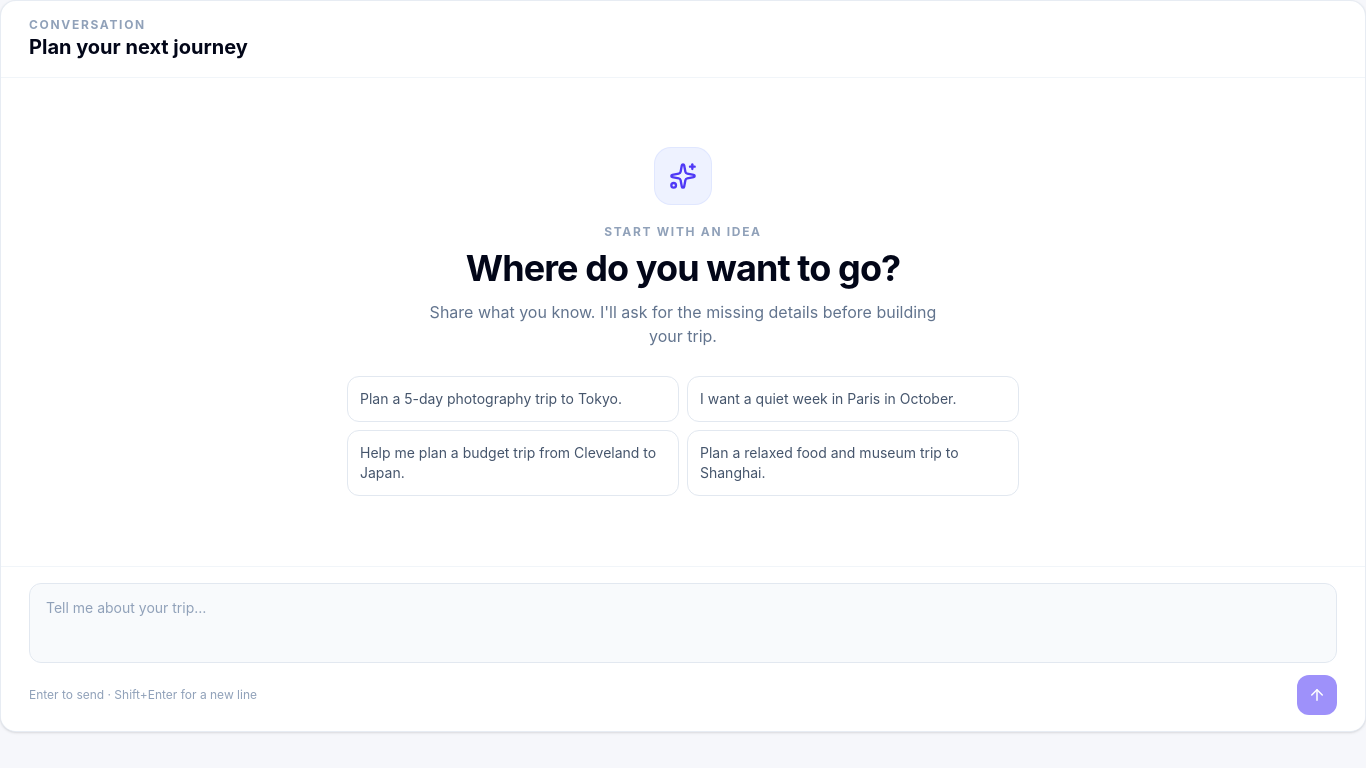
ChatPanel › shows welcome prompts and fills without auto-sending
Check: the heading "Where do you want to go?" is shown, box top-left (466, 248), bottom-right (900, 288)
Click the button "Plan a 5-day photography trip to Tokyo.": (513, 399) top-left (347, 376), bottom-right (679, 422)
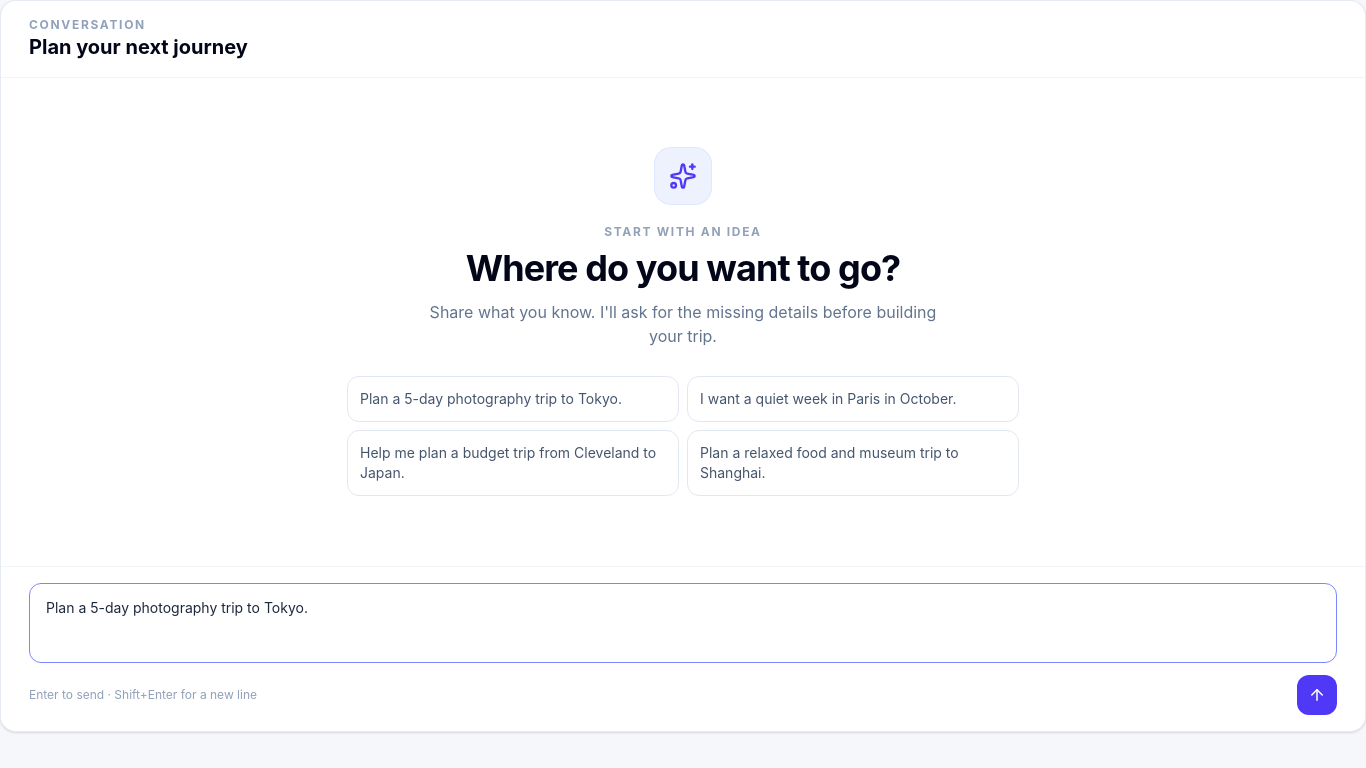
Check: the text box named "Describe your trip" holds "Plan a 5-day photography trip to Tokyo.", box top-left (29, 583), bottom-right (1337, 663)
